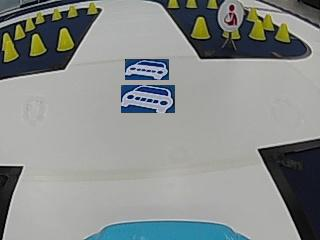cone: (191, 16, 211, 39), (2, 35, 18, 60), (29, 34, 46, 56), (57, 28, 73, 51), (249, 19, 265, 40), (275, 22, 290, 43), (14, 23, 25, 38), (86, 2, 98, 15), (247, 7, 258, 20), (67, 5, 78, 18), (51, 8, 62, 20), (25, 17, 35, 30), (35, 11, 45, 23), (167, 0, 179, 9), (206, 0, 218, 9), (185, 0, 197, 8)
patient: (219, 1, 242, 28)
